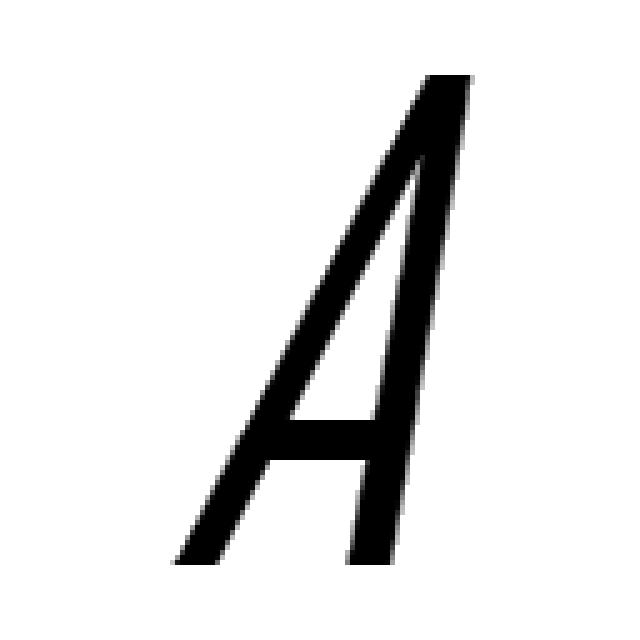A: (165, 60, 480, 570)
